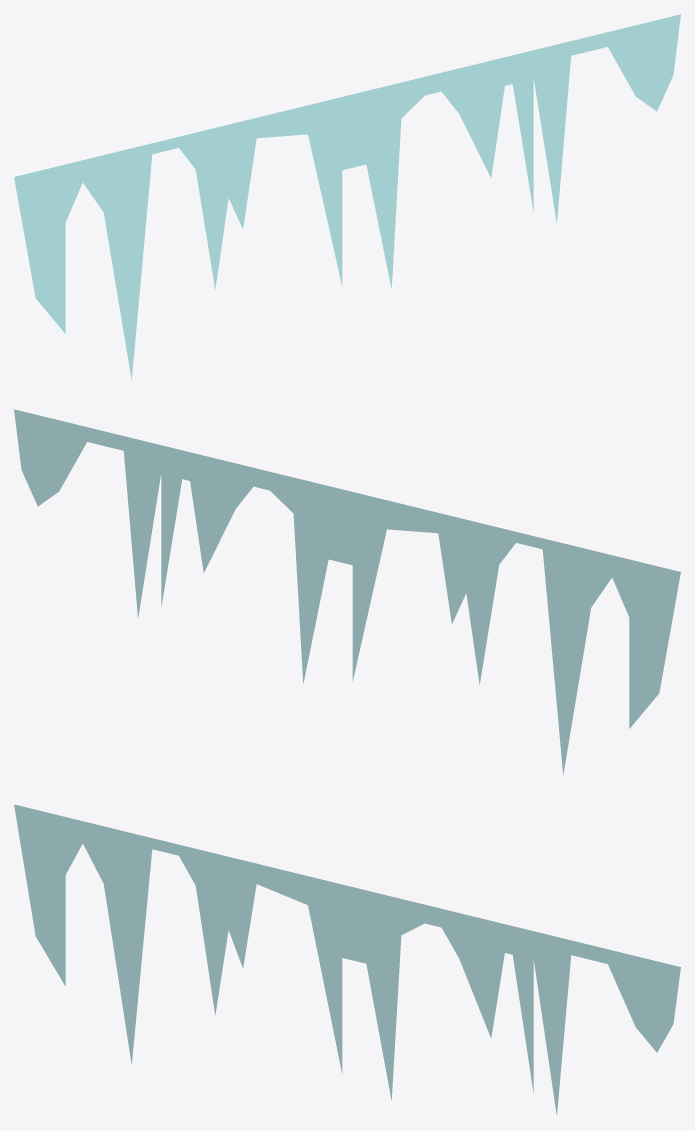
File: Ice_Sheet_Spikes_01.fbx
3 renders of one model, top to bottom at view 1: azimuth 30°, elevation 25°; view 2: azimuth 150°, elevation 25°; view 3: azimuth 330°, elevation 25°, orthographic.
Parts seen in each view (by area): view 1: Ice_Sheet_Spikes_01; view 2: Ice_Sheet_Spikes_01; view 3: Ice_Sheet_Spikes_01.
Part boxes in pixels (box(x1,y1,x2,y2)): Ice_Sheet_Spikes_01: box(14, 14, 680, 379); Ice_Sheet_Spikes_01: box(14, 409, 680, 774); Ice_Sheet_Spikes_01: box(14, 804, 680, 1115).
Bounding box in the file's own units: 108 × 35.95 × 1.57e-06.
